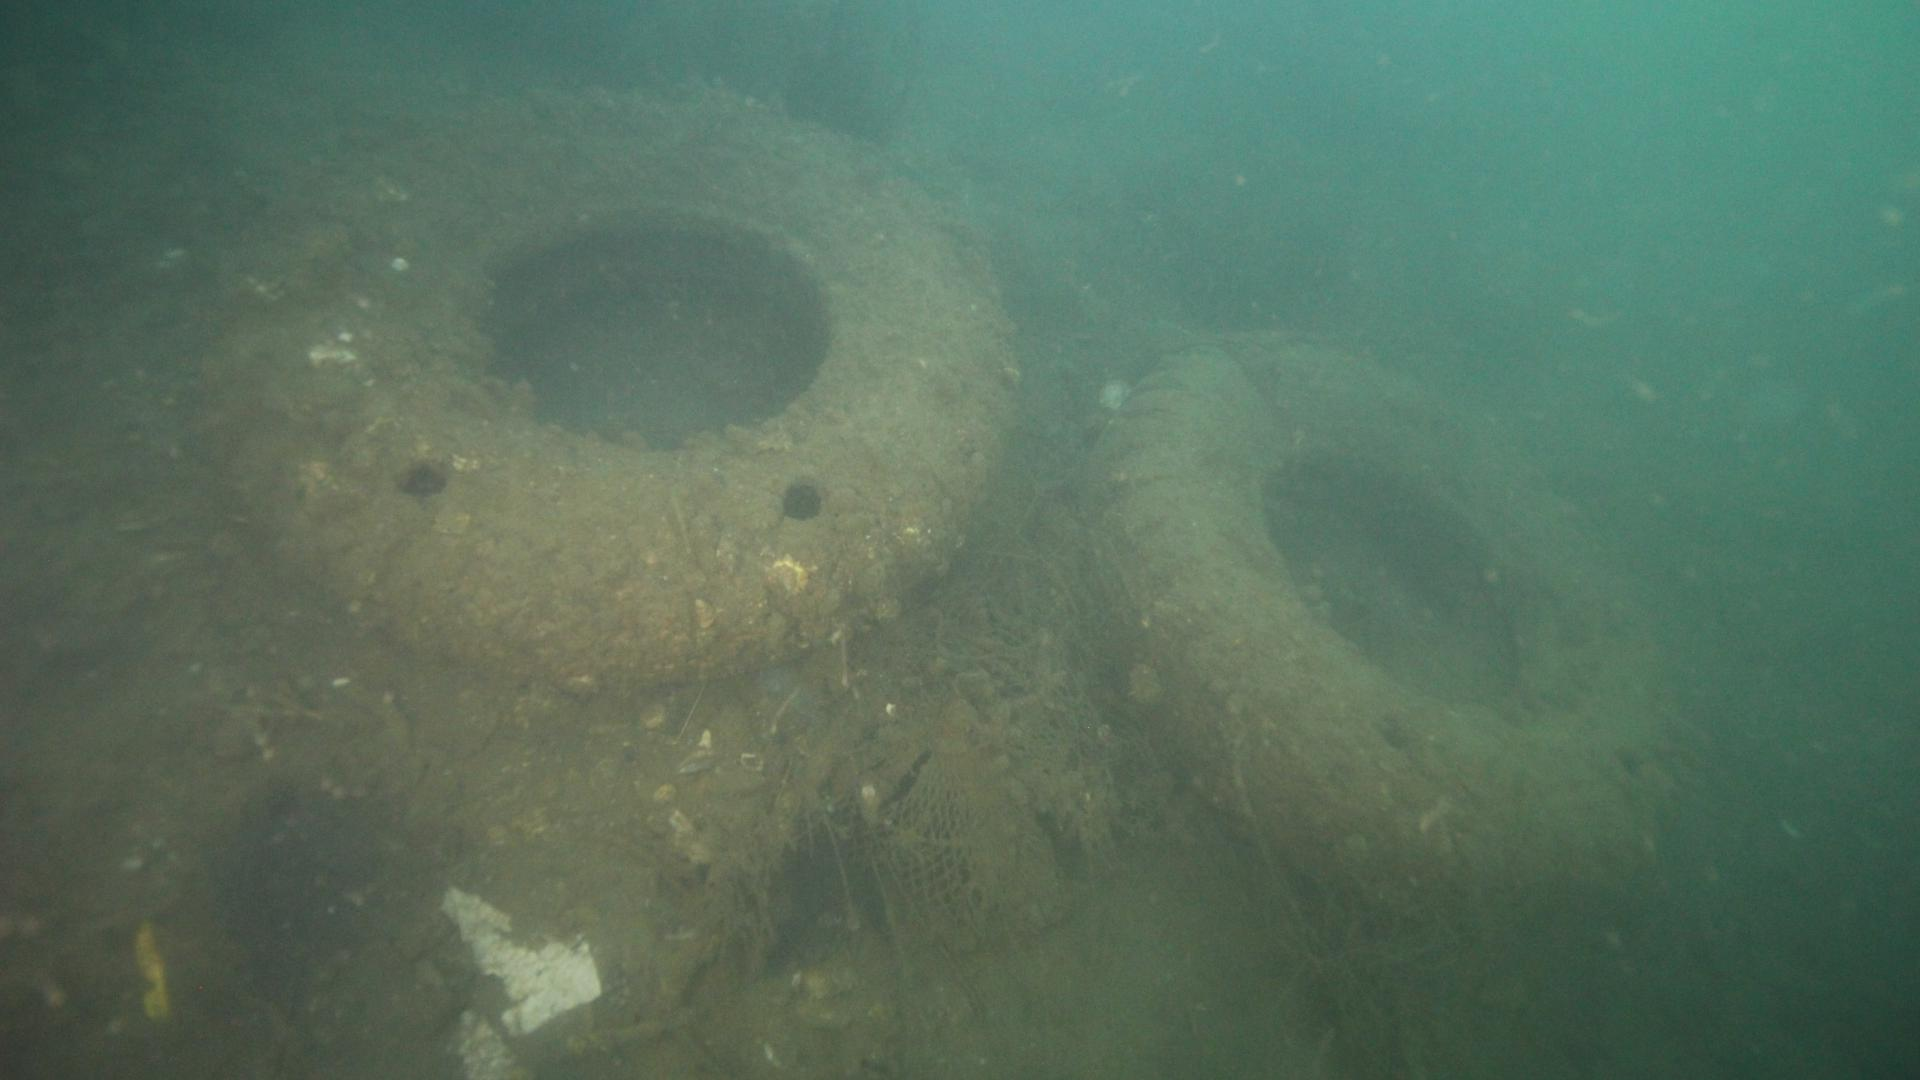tire: (210, 91, 1027, 687), (1075, 328, 1693, 932)
